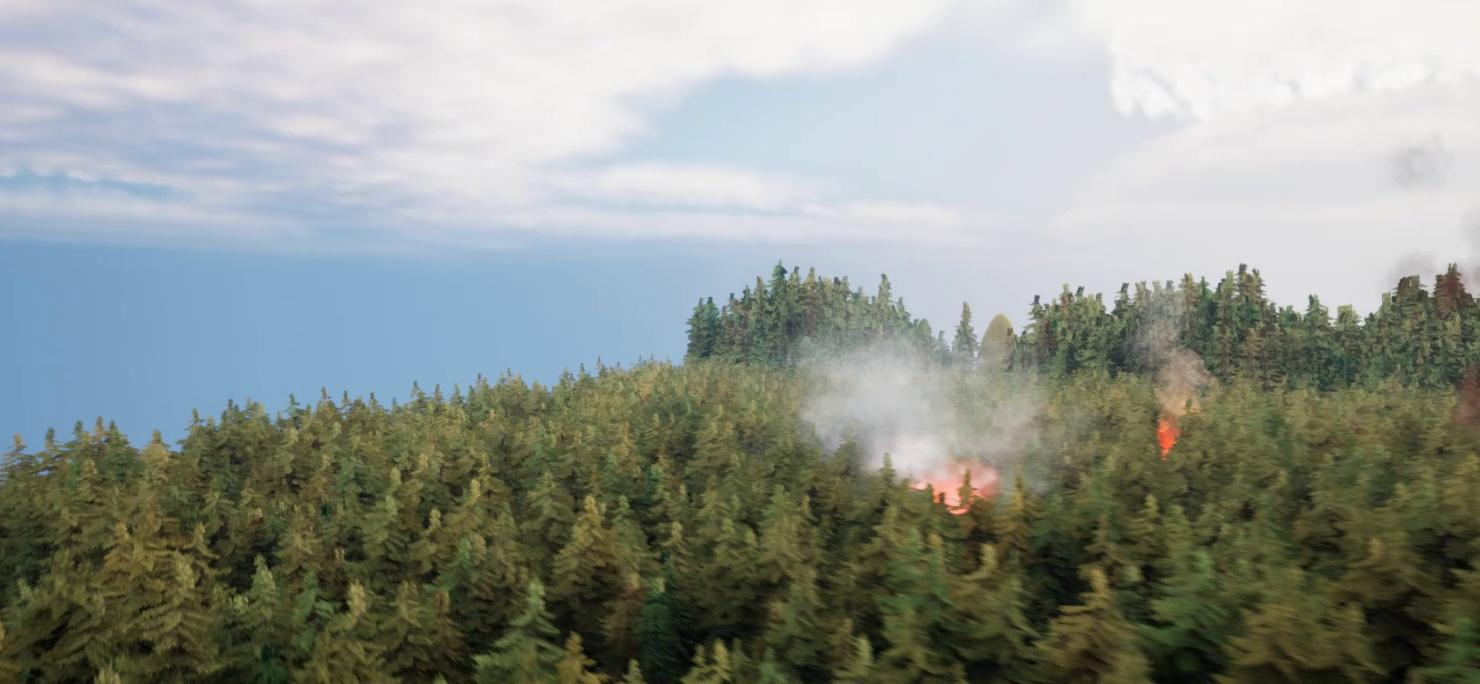fire: (911, 465, 1003, 519)
smoke: (788, 319, 1062, 499), (1139, 293, 1218, 442)
